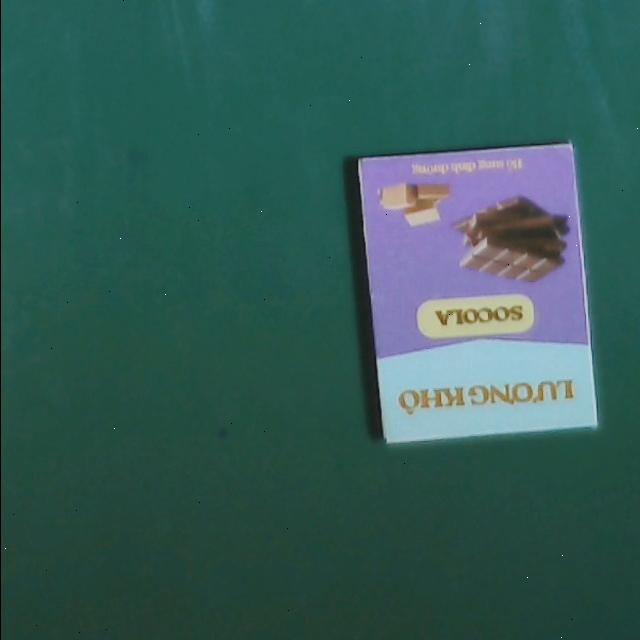socola: (357, 141, 596, 444)
